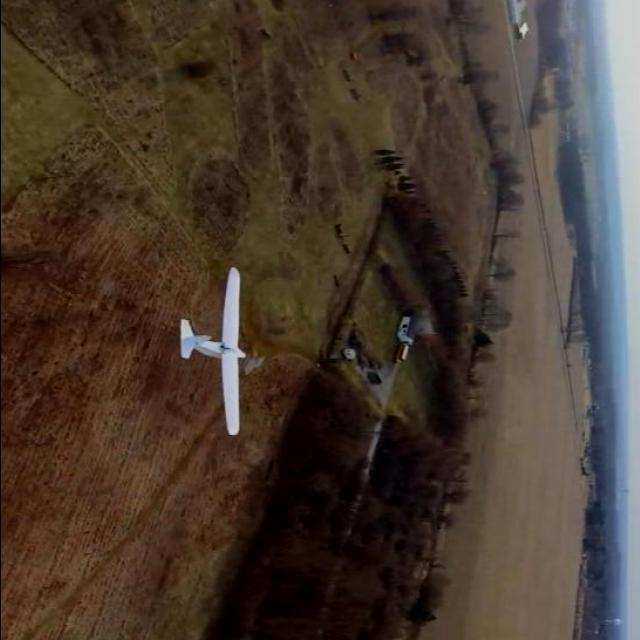plane: (178, 265, 247, 436)
